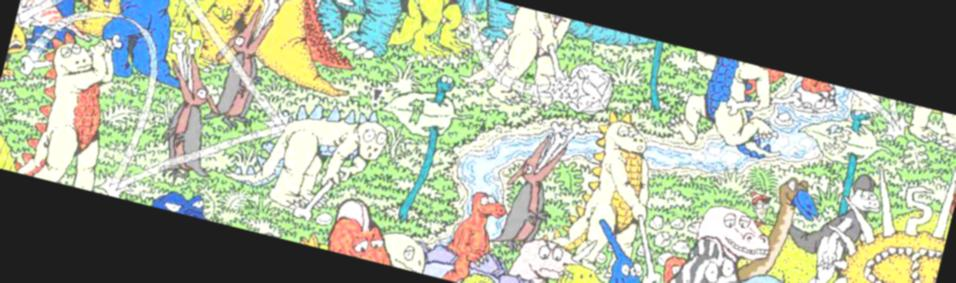waldo: (743, 189, 774, 222)
